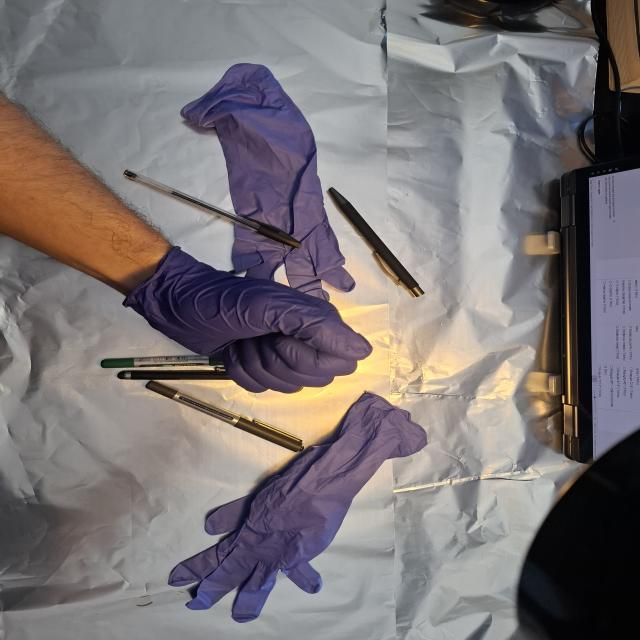glove_on: (125, 244, 378, 396)
